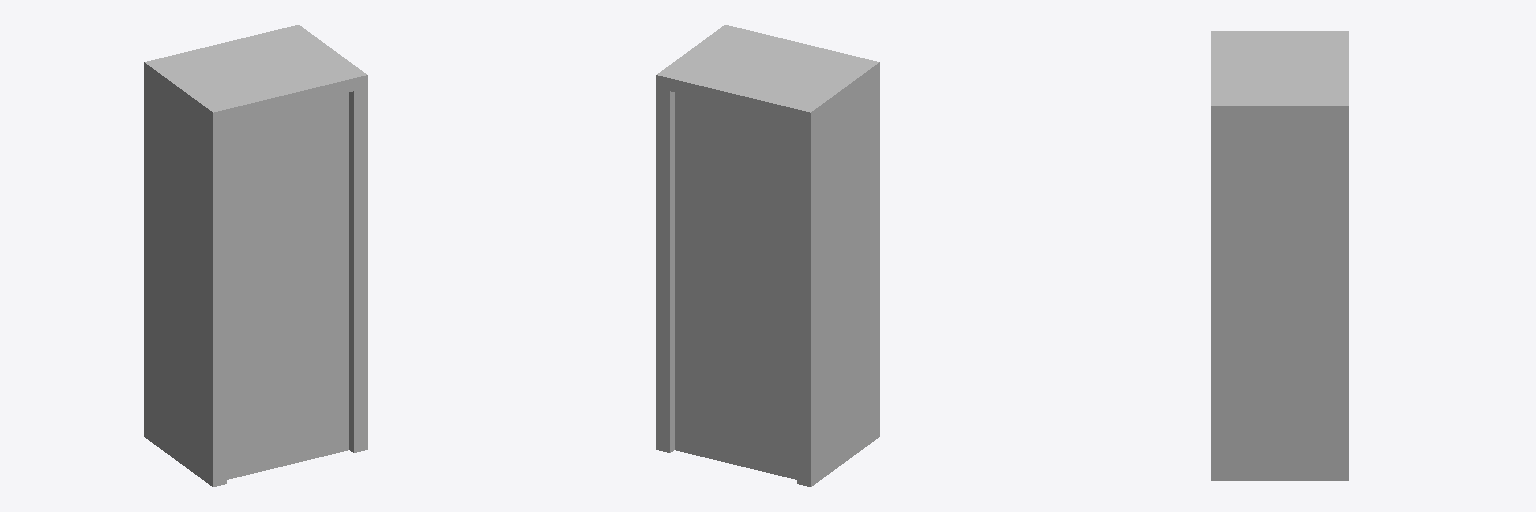
File: skyscraper13.obj
The picture shows the model from 3 angles: view 1: azimuth 30°, elevation 25°; view 2: azimuth 150°, elevation 25°; view 3: azimuth 270°, elevation 25°; orthographic projection.
Parts seen in each view (by area): view 1: skyscraper_13; view 2: skyscraper_13; view 3: skyscraper_13.
Part boxes in pixels (bbox=[...]): skyscraper_13: bbox=[144, 25, 367, 486]; skyscraper_13: bbox=[656, 25, 879, 486]; skyscraper_13: bbox=[1211, 31, 1348, 480].
Size of the model in its own units: 234 by 543 by 181.